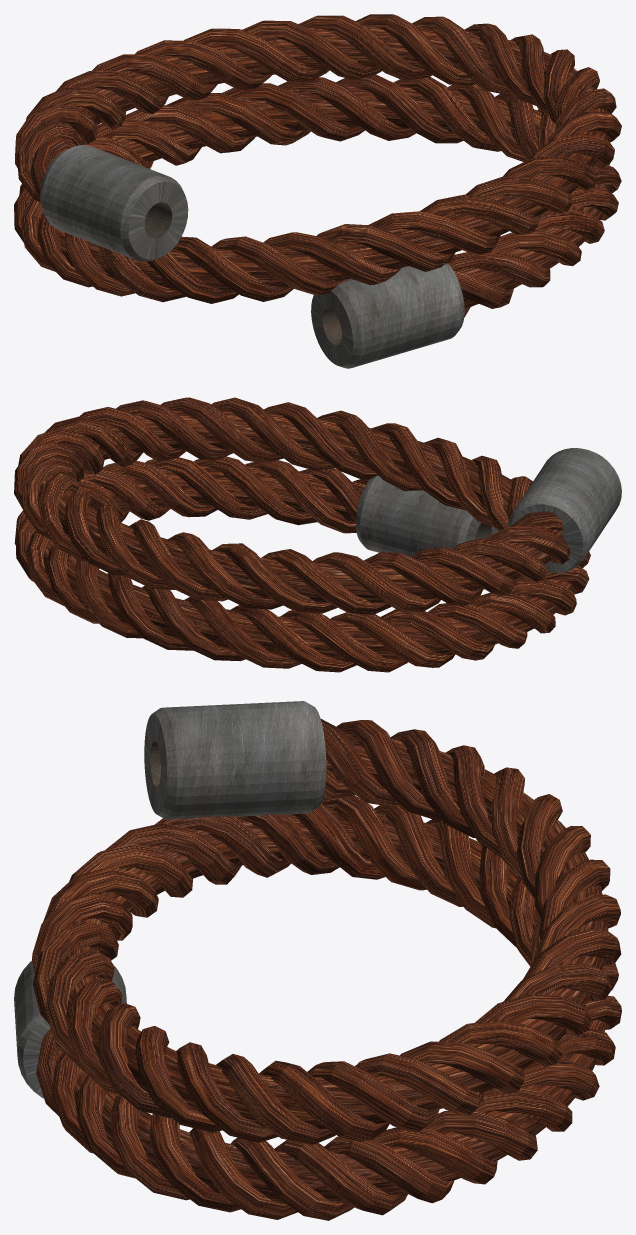
The model's file is reinforced_bowstring.obj.
3 renders of one model, top to bottom at view 1: azimuth 30°, elevation 25°; view 2: azimuth 150°, elevation 25°; view 3: azimuth 270°, elevation 25°, orthographic. The views are drawn at different scales.
Visible parts, largest first — view 1: strand_2, strand_1, strand_0, cord, end_ferrule, start_ferrule; view 2: strand_1, strand_0, strand_2, cord, end_ferrule, start_ferrule; view 3: strand_1, strand_0, strand_2, cord, end_ferrule, start_ferrule.
Part boxes in pixels (bbox=[...]): strand_2: bbox=[17, 14, 616, 308]; strand_1: bbox=[19, 15, 618, 303]; strand_0: bbox=[14, 16, 621, 317]; cord: bbox=[32, 25, 609, 308]; end_ferrule: bbox=[40, 145, 188, 261]; start_ferrule: bbox=[311, 263, 464, 368]; strand_1: bbox=[21, 397, 576, 672]; strand_0: bbox=[14, 400, 589, 672]; strand_2: bbox=[14, 397, 590, 668]; cord: bbox=[37, 409, 578, 661]; end_ferrule: bbox=[508, 448, 621, 572]; start_ferrule: bbox=[356, 475, 498, 556]; strand_1: bbox=[43, 720, 615, 1215]; strand_0: bbox=[32, 719, 621, 1219]; strand_2: bbox=[32, 729, 620, 1220]; cord: bbox=[55, 732, 608, 1204]; end_ferrule: bbox=[144, 701, 326, 819]; start_ferrule: bbox=[14, 961, 126, 1098].
Bounding box in the file's own units: 106 × 35.03 × 78.42.
Materials: 2 (2 with a texture image).
